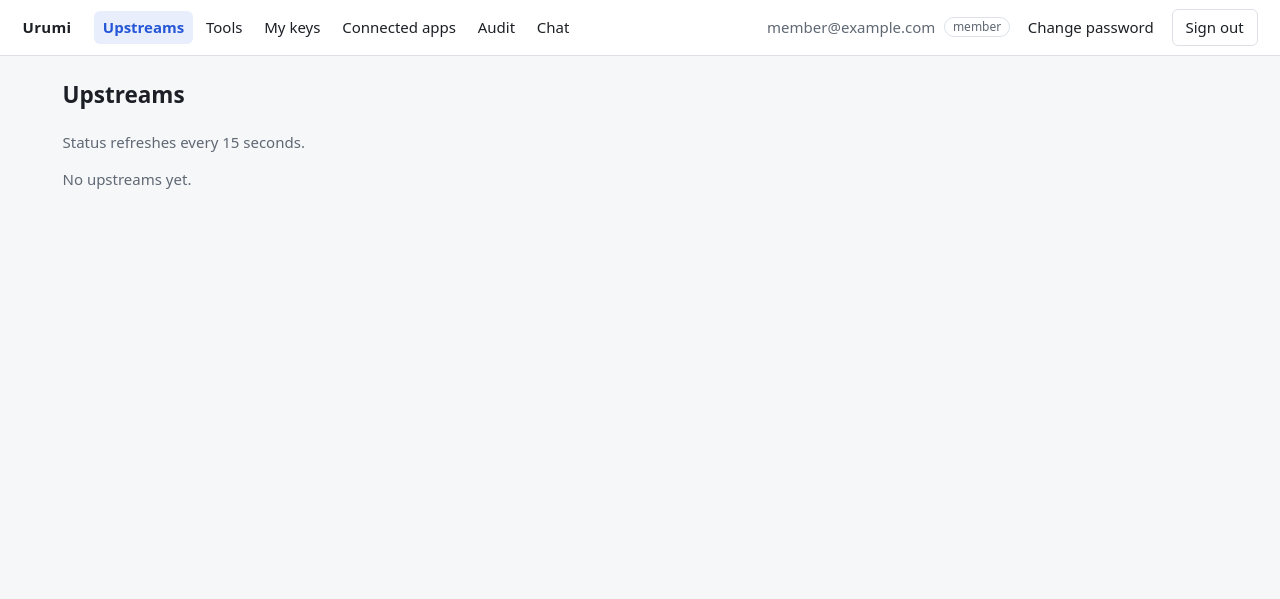
Test case: login and session › signs out
The width and height of the screenshot is (1280, 599).
Click the button "Sign out": coordinates (1215, 27) [1172,9,1258,46]
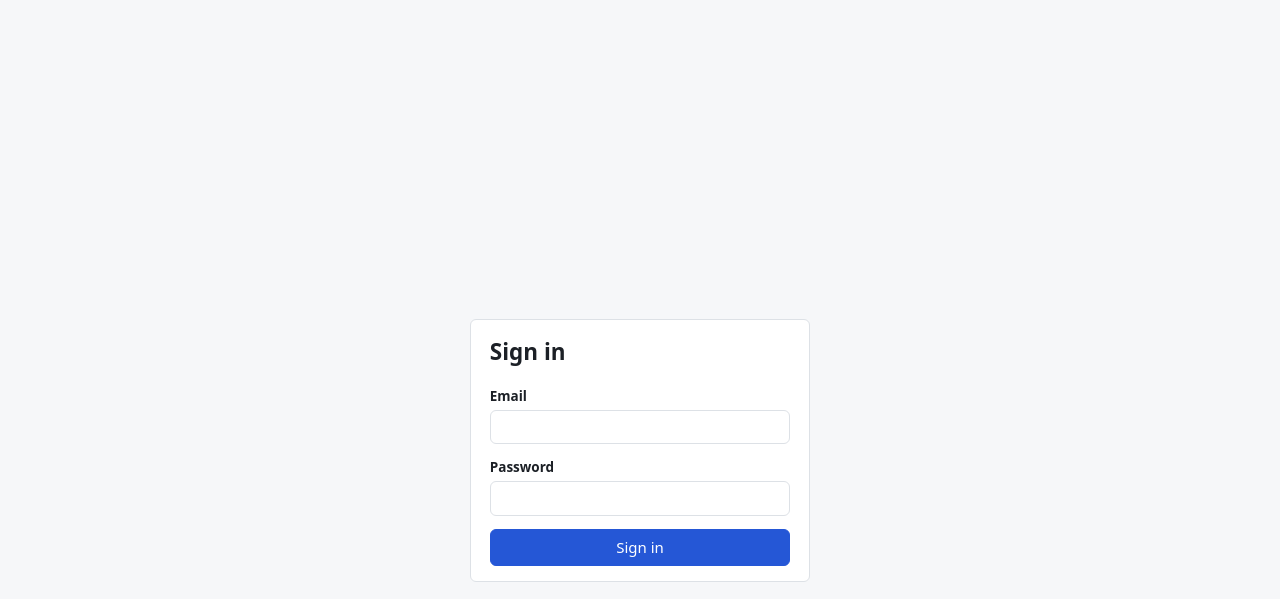
Result: the heading "Sign in" is shown at [490,336,566,366]
